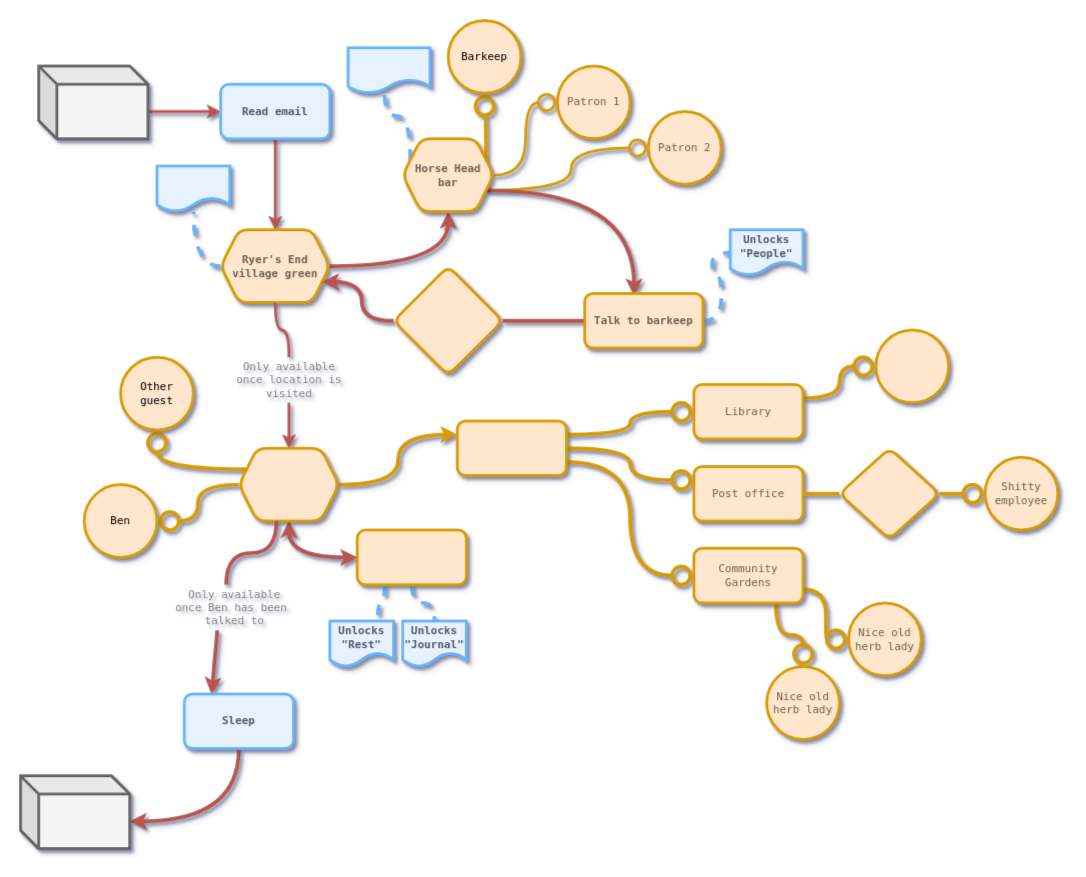
The diagram is 1086 pixels wide and 877 high, and some of its shapes have lost their labels. Each missing label, with the centre of its shape:
Arrival in Ryer's End: (x=93, y=103)
Beckett & Ben's B&B: (x=289, y=485)
Dream: (x=75, y=813)
Explore more of the town: (x=512, y=449)
Helpful student: (x=912, y=367)
Someone's watching you: (x=448, y=322)
Something weird happens: (x=890, y=494)
Talk to Ben: (x=412, y=558)
Unlocks "Inventory": (x=194, y=190)
Unlocks "Locations": (x=389, y=71)
